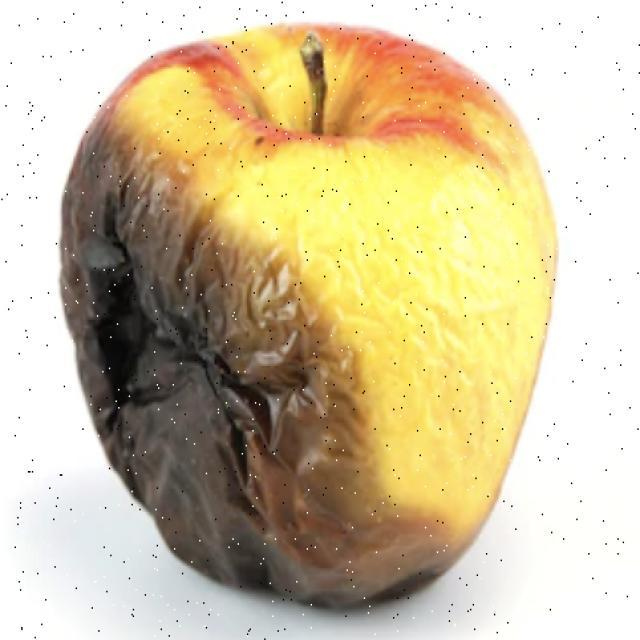Rotten: (83, 29, 540, 604)
